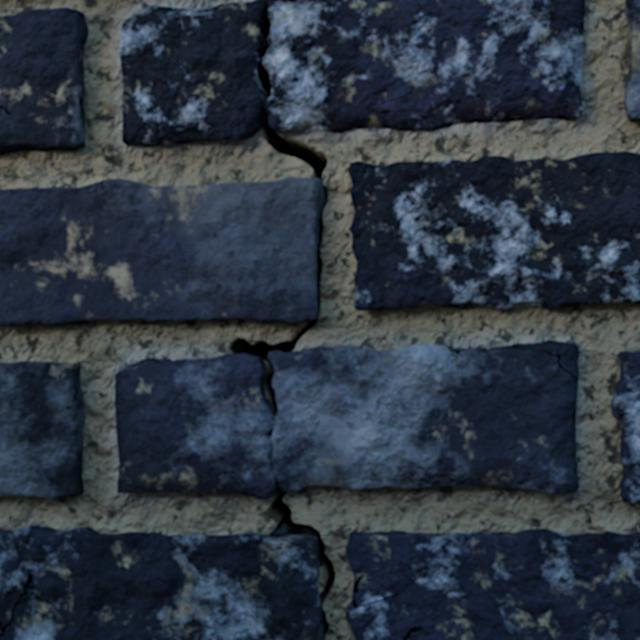broken_brick: (115, 340, 578, 499), (263, 0, 585, 132), (120, 0, 264, 145)
crack: (0, 0, 329, 418), (0, 491, 336, 639), (348, 151, 639, 310), (346, 529, 639, 639), (0, 7, 88, 154), (0, 361, 85, 500), (610, 350, 639, 502), (513, 346, 578, 379), (623, 0, 639, 120), (447, 346, 464, 357), (572, 409, 576, 421)
